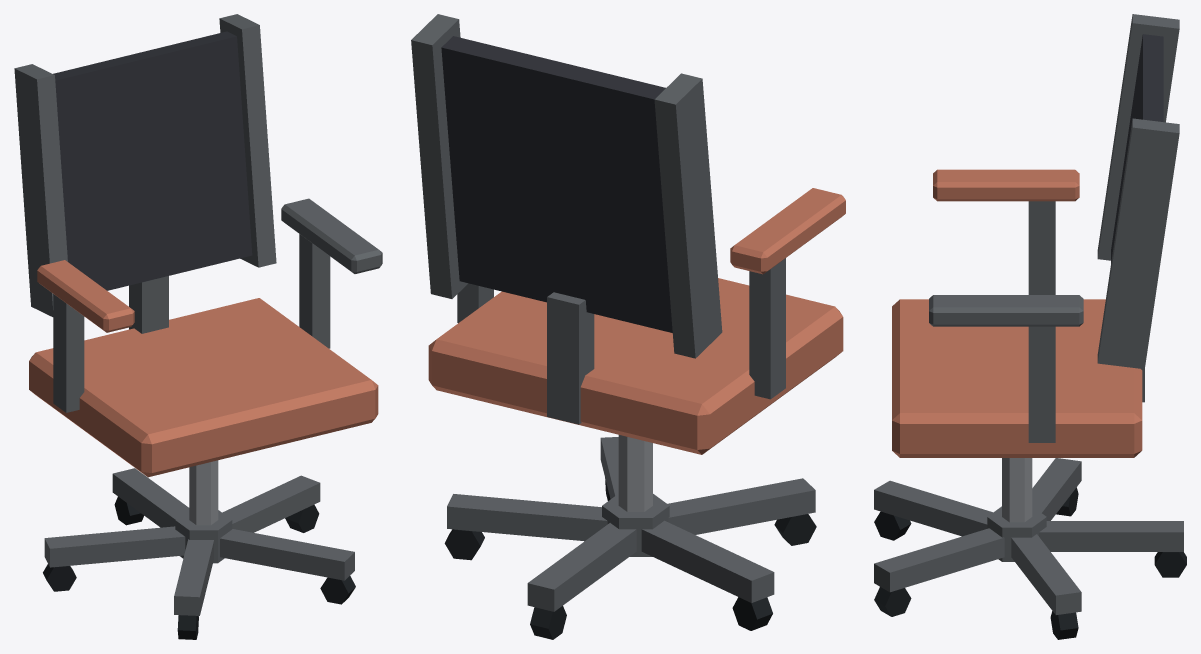
Rendered from office-chair-12.glb.
3 renders of one model, left to right at view 1: azimuth 30°, elevation 25°; view 2: azimuth 150°, elevation 25°; view 3: azimuth 270°, elevation 25°, orthographic. The views are drawn at different scales.
Parts seen in each view (by area): view 1: office_chair_12; view 2: office_chair_12; view 3: office_chair_12.
Part boxes in pixels (x1=…): office_chair_12: x1=14, y1=14, x2=382, y2=639; office_chair_12: x1=411, y1=14, x2=845, y2=639; office_chair_12: x1=874, y1=14, x2=1186, y2=639.
Size of the model in its own units: 0.6184 by 1.03 by 0.5788.
